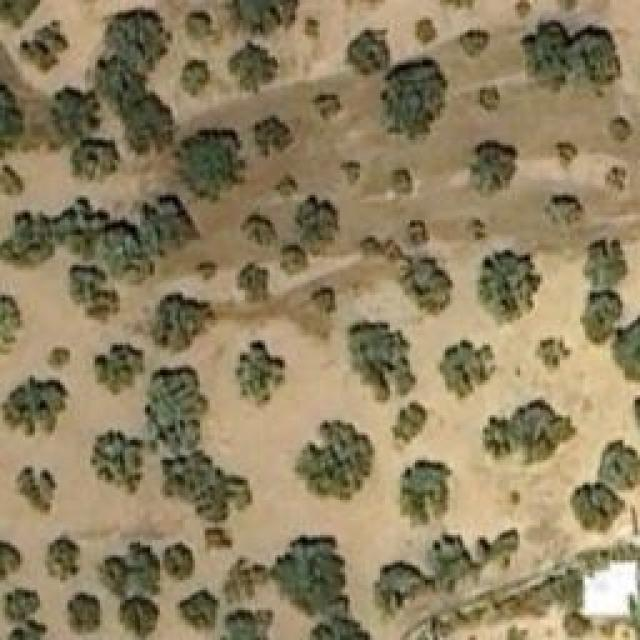Tree: (160, 450, 253, 523), (480, 400, 575, 468), (295, 420, 375, 500), (273, 535, 348, 618), (145, 365, 208, 453), (173, 130, 248, 203), (347, 323, 415, 403), (380, 60, 448, 138), (478, 250, 541, 328), (0, 375, 68, 438), (153, 293, 218, 356), (98, 543, 163, 606), (520, 22, 575, 90), (398, 458, 451, 528), (107, 5, 165, 68), (437, 340, 495, 400), (235, 340, 288, 405), (90, 433, 143, 496), (465, 140, 518, 198), (228, 0, 301, 40), (93, 343, 148, 396), (375, 560, 428, 615), (70, 265, 120, 323), (220, 607, 307, 640), (400, 258, 453, 311), (98, 225, 151, 278), (425, 535, 470, 595), (578, 28, 621, 88), (570, 483, 620, 533), (228, 45, 278, 95), (295, 195, 340, 248), (597, 437, 640, 492), (148, 200, 191, 253), (3, 220, 56, 263), (125, 103, 170, 153), (15, 465, 58, 515), (583, 290, 623, 343), (348, 27, 391, 75), (50, 88, 95, 133), (118, 595, 161, 640), (70, 138, 115, 181), (612, 317, 640, 385), (393, 400, 428, 453), (63, 593, 103, 636), (178, 590, 221, 630), (225, 558, 268, 598), (585, 240, 625, 283), (45, 535, 80, 583), (255, 115, 293, 158), (22, 30, 60, 73), (307, 617, 377, 640), (535, 335, 573, 373), (163, 540, 196, 583), (0, 292, 22, 355), (545, 195, 583, 228), (240, 213, 273, 248), (2, 588, 40, 618), (240, 263, 268, 303), (0, 0, 38, 28), (182, 60, 210, 98), (0, 540, 22, 585), (313, 93, 343, 123), (280, 245, 308, 275), (460, 30, 488, 58), (608, 117, 633, 145), (403, 220, 428, 248), (205, 528, 233, 553), (390, 167, 413, 195), (188, 10, 211, 38), (313, 285, 338, 310), (0, 168, 20, 198), (45, 348, 70, 371), (273, 175, 296, 198), (480, 88, 500, 113), (468, 218, 488, 241), (608, 165, 628, 188), (417, 18, 435, 43), (557, 143, 575, 163), (342, 162, 360, 180), (512, 0, 530, 18)
